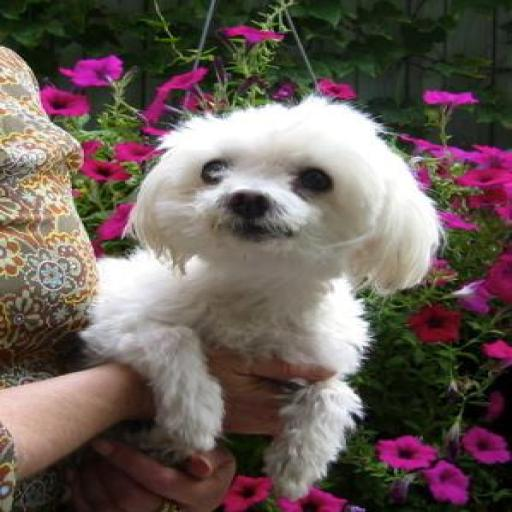dog_face: (145, 105, 422, 281)
